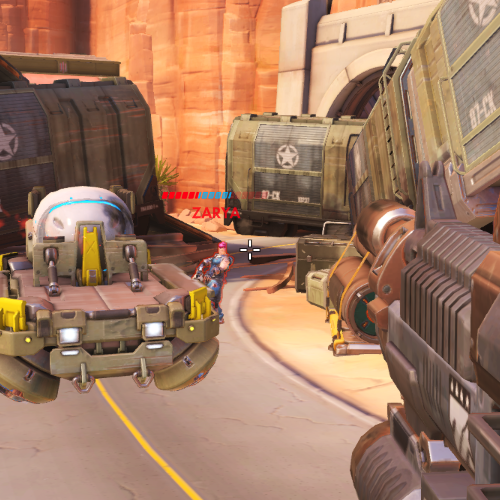hpbar: (161, 191, 270, 200)
